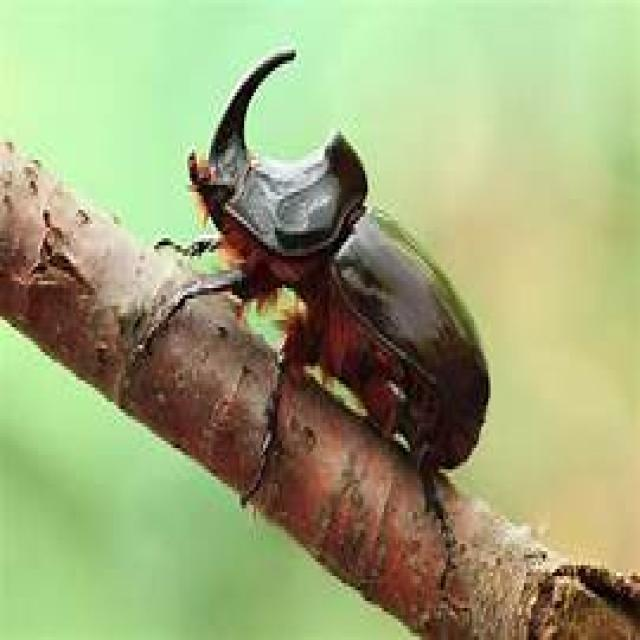Rhino-beetle: (103, 36, 527, 460)
